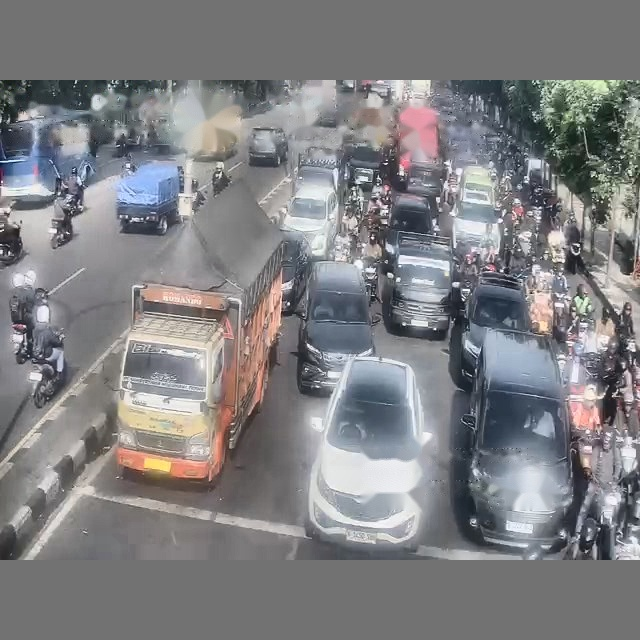Bis: (0, 111, 98, 203)
Mobil: (305, 357, 431, 550), (462, 331, 573, 550), (296, 262, 374, 392), (456, 272, 531, 388), (382, 233, 452, 338), (282, 184, 338, 259), (383, 192, 436, 271), (449, 199, 502, 248), (282, 229, 311, 312), (295, 146, 341, 192), (345, 140, 382, 190), (405, 162, 442, 209), (248, 127, 288, 165), (317, 100, 338, 127), (371, 80, 391, 102)
Motor: (29, 359, 60, 408), (354, 256, 379, 304), (11, 323, 31, 364), (49, 218, 72, 249), (212, 173, 230, 196)
Truk: (116, 180, 283, 483)
